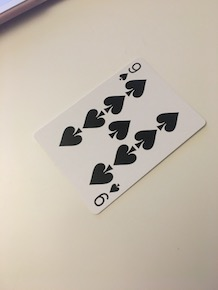NineOfSpades: (31, 55, 208, 216)
